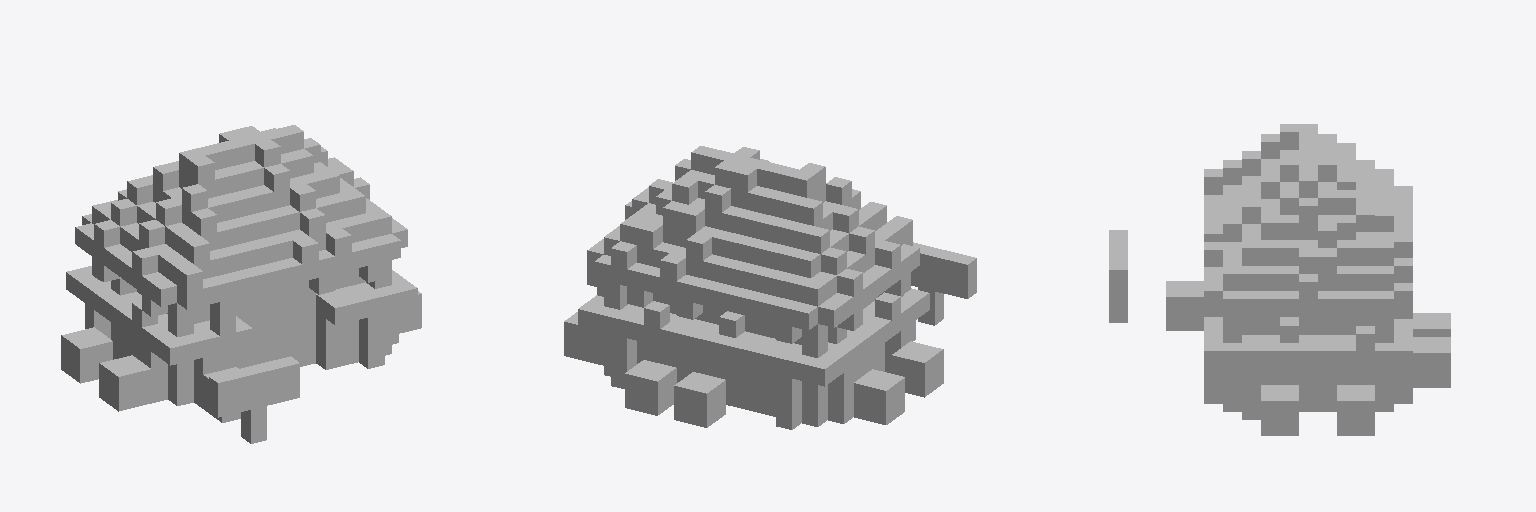
Rendered from tiki_hut.obj.
3 renders of one model, left to right at view 1: azimuth 30°, elevation 25°; view 2: azimuth 150°, elevation 25°; view 3: azimuth 270°, elevation 25°, orthographic.
Bounding box in the file's own units: 19 × 12 × 18.